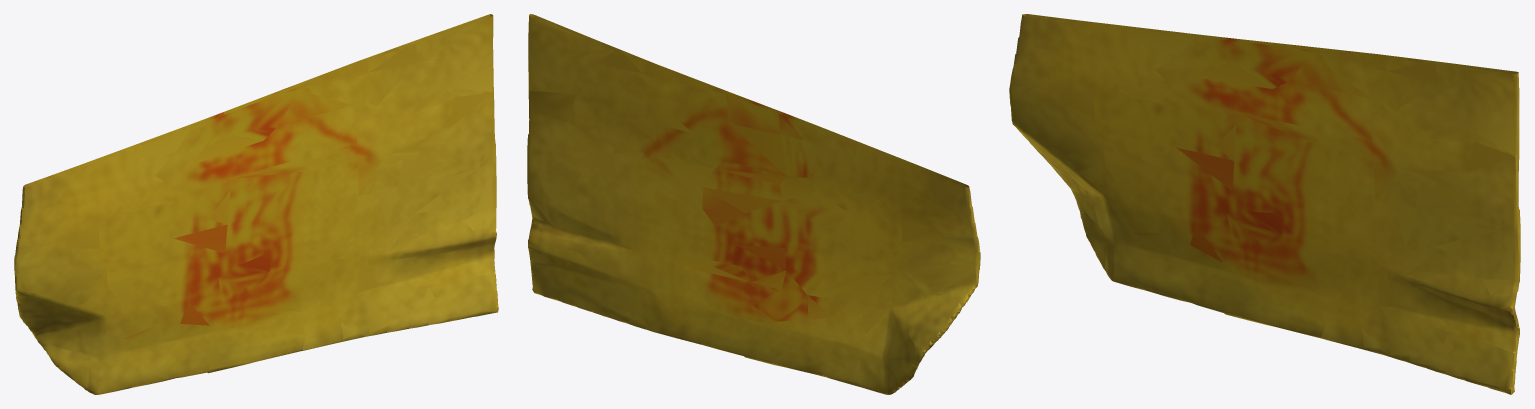
The model's file is fragment_0.fbx.
3 views of the same model, side by side, from view 1: azimuth 30°, elevation 25°; view 2: azimuth 150°, elevation 25°; view 3: azimuth 330°, elevation 25° (orthographic). The views are drawn at different scales.
Visible parts, largest first — view 1: fragment_0; view 2: fragment_0; view 3: fragment_0.
Boxes of the visible parts, left/top/right/bottom form: fragment_0: left=14, top=14, right=498, bottom=394; fragment_0: left=527, top=14, right=980, bottom=394; fragment_0: left=1009, top=14, right=1520, bottom=394.
Bounding box in the file's own units: 7.52 × 4.47 × 0.8397.
1 material, 1 textured.
